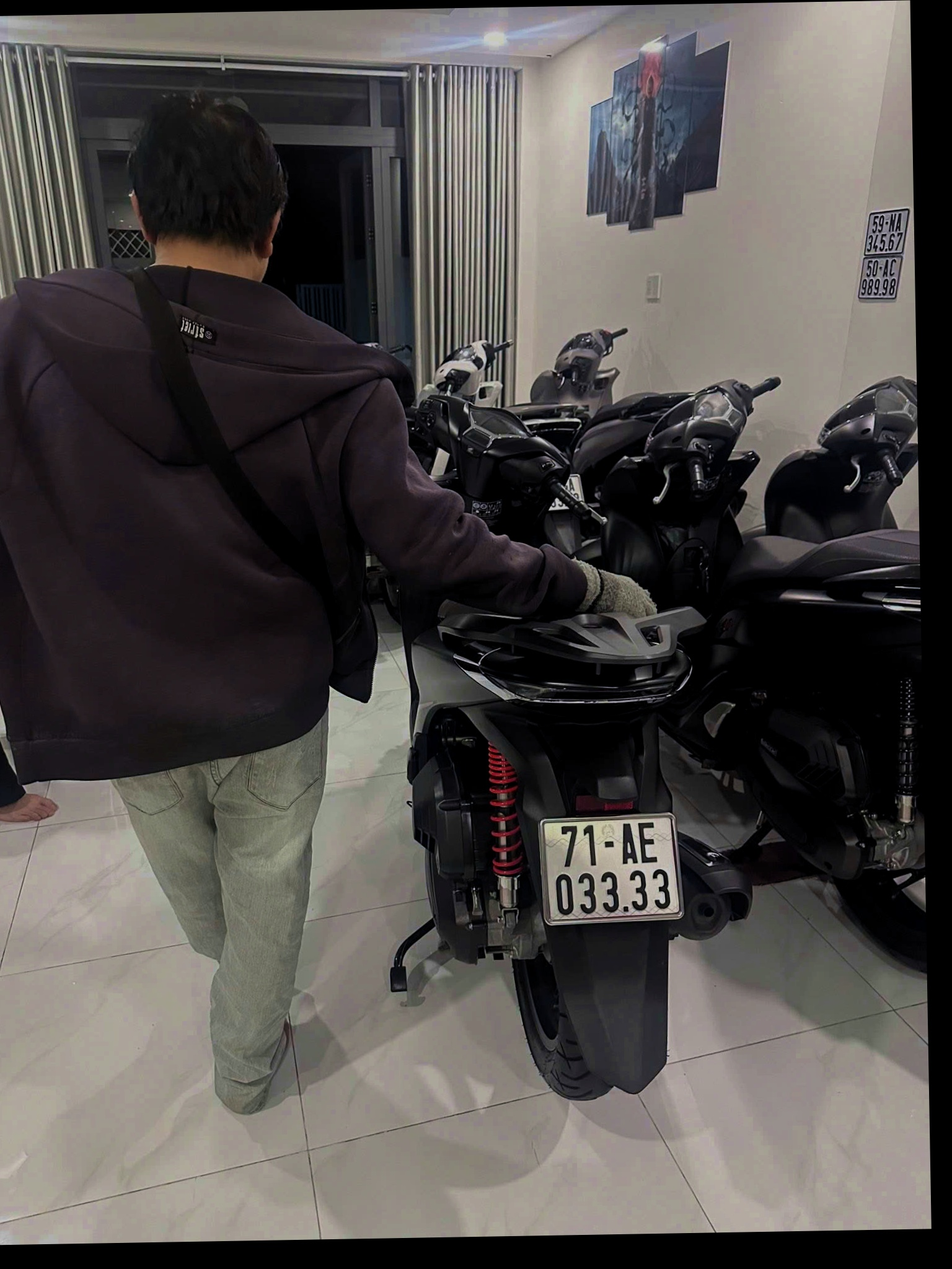Bien-so: (540, 812, 680, 922)
